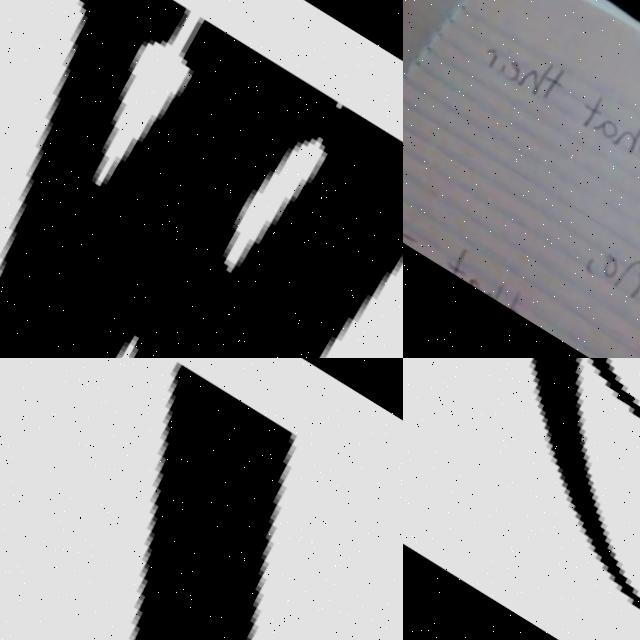9: (403, 358, 640, 640)
A: (582, 113, 613, 142)
E: (496, 60, 518, 83)
H: (508, 52, 549, 96), (600, 111, 640, 155)
I: (488, 47, 511, 73)
J: (0, 358, 403, 640)
N: (598, 253, 640, 300)
O: (585, 253, 612, 280)
R: (473, 46, 494, 68)
T: (567, 93, 600, 130), (530, 64, 563, 101)
W: (0, 0, 403, 358), (624, 138, 640, 169)
